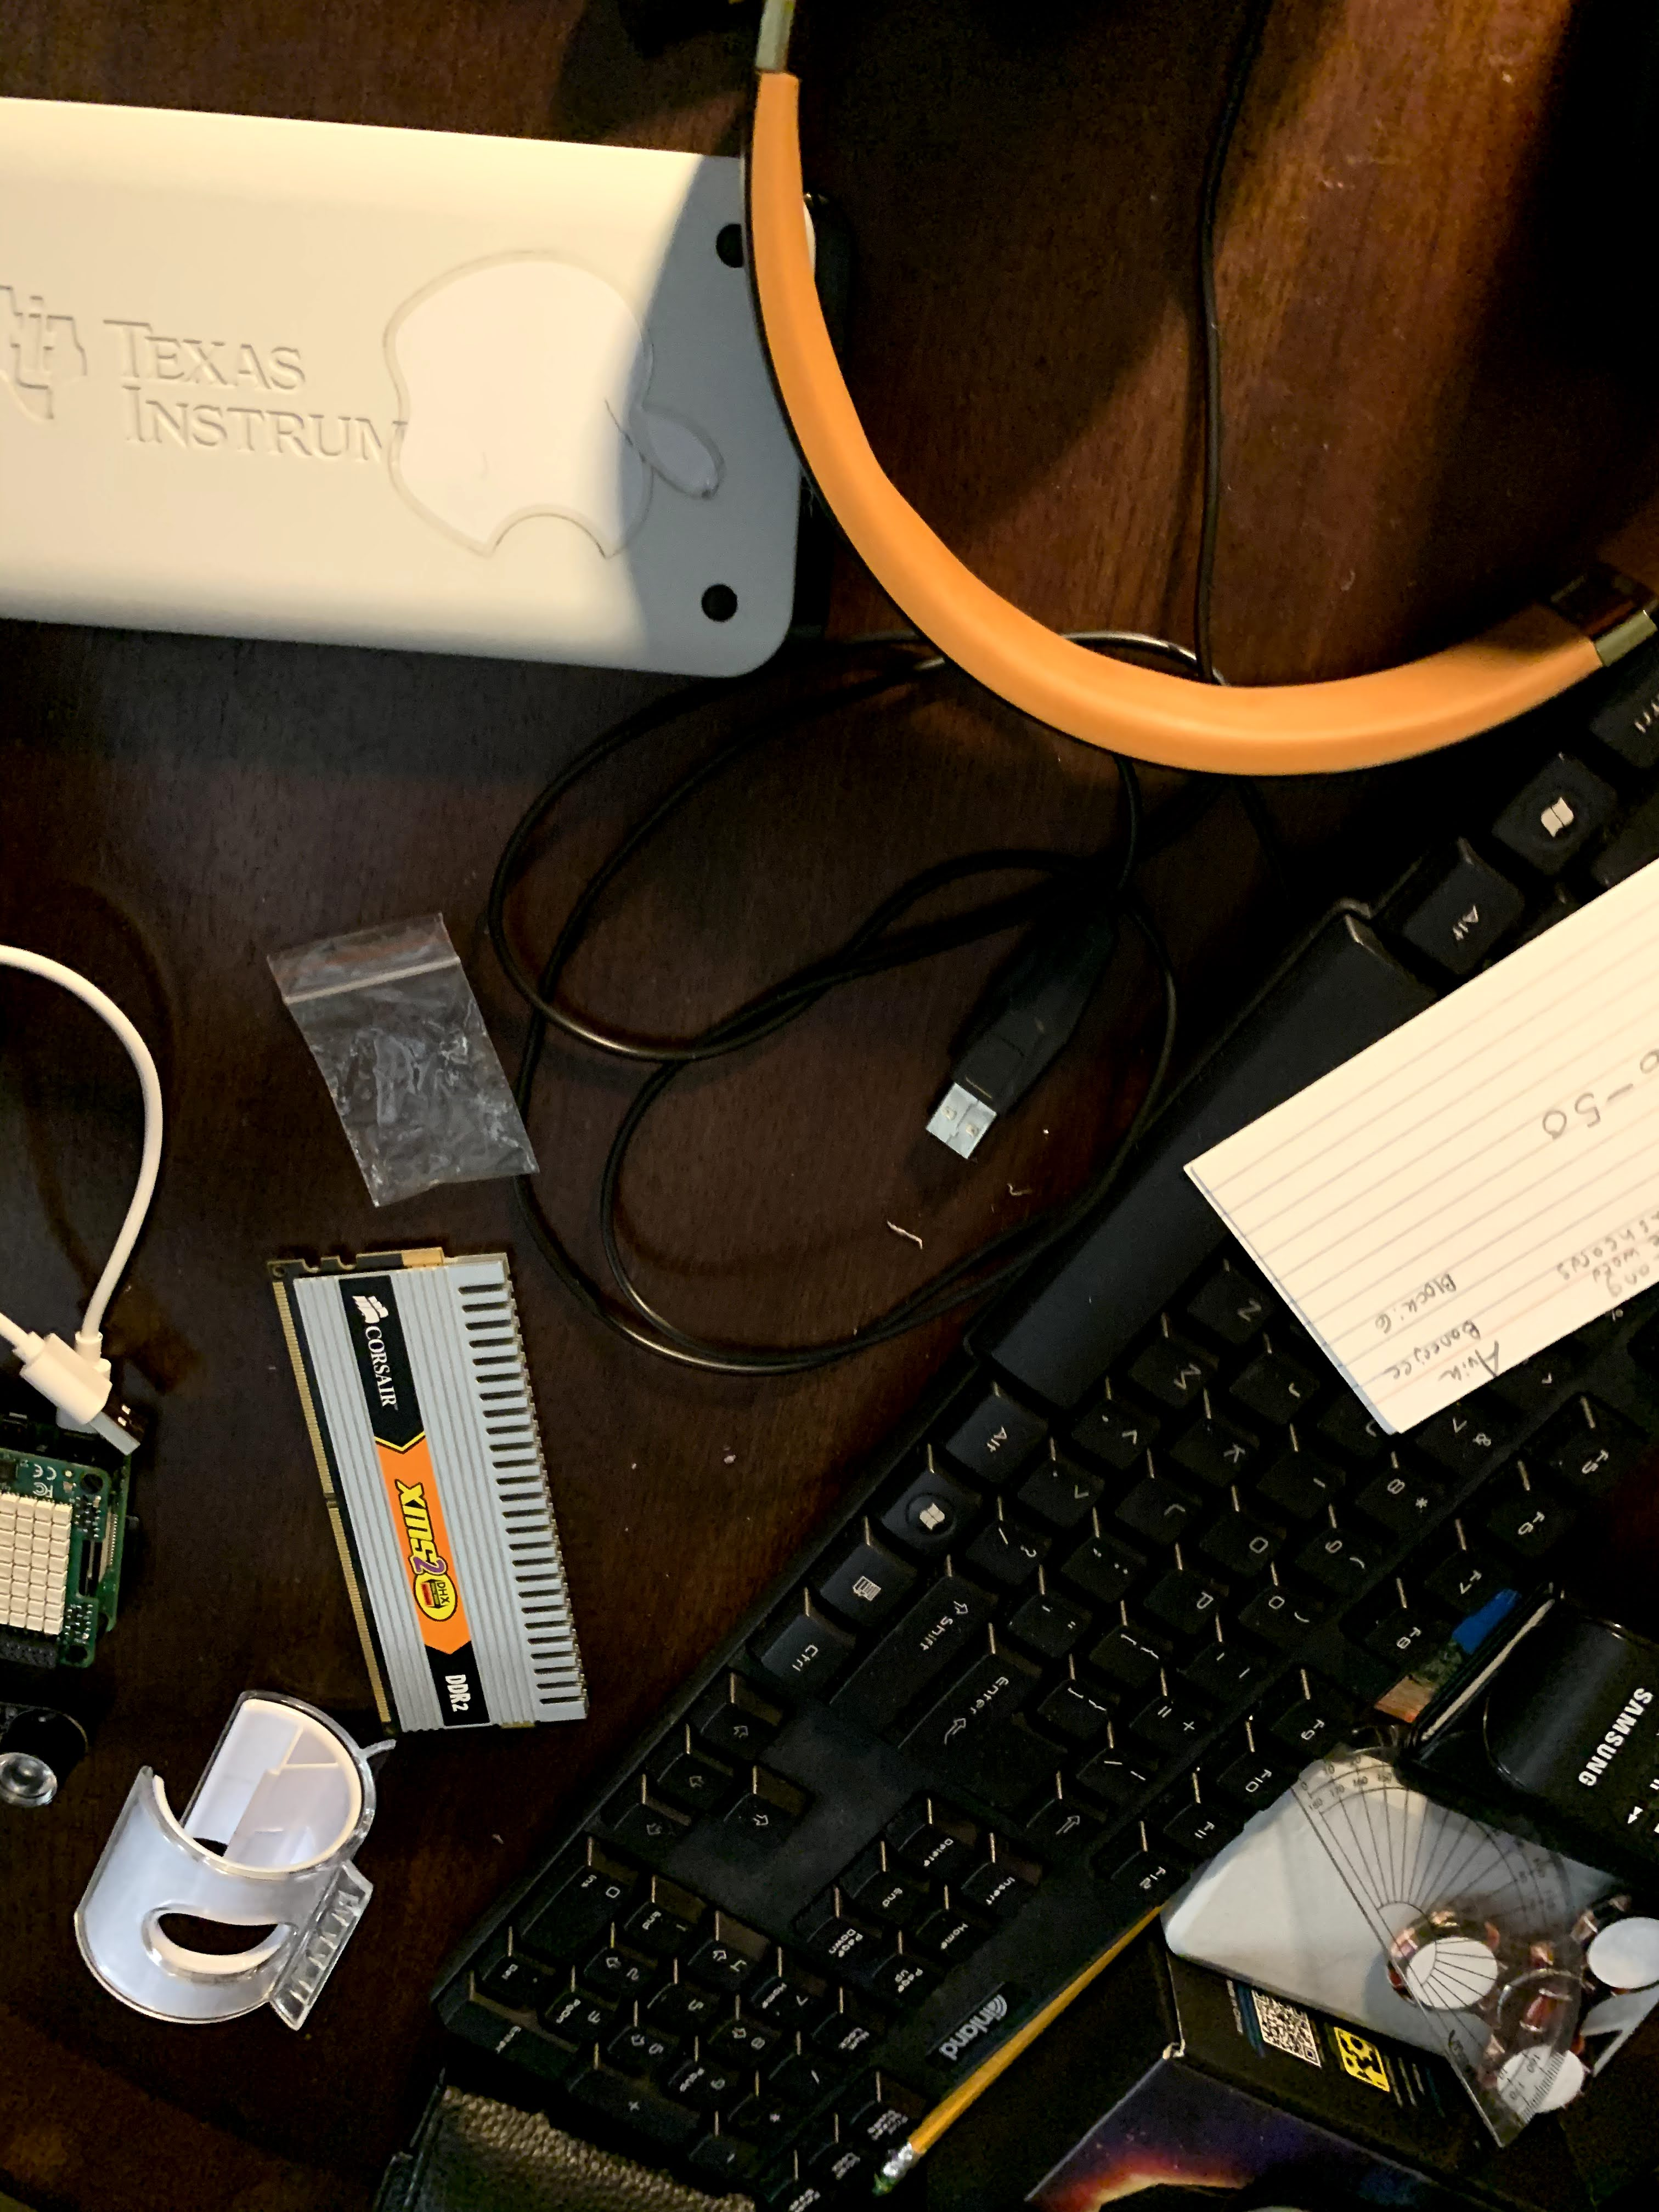Space-debris-medium: (218, 1228, 627, 1738)
